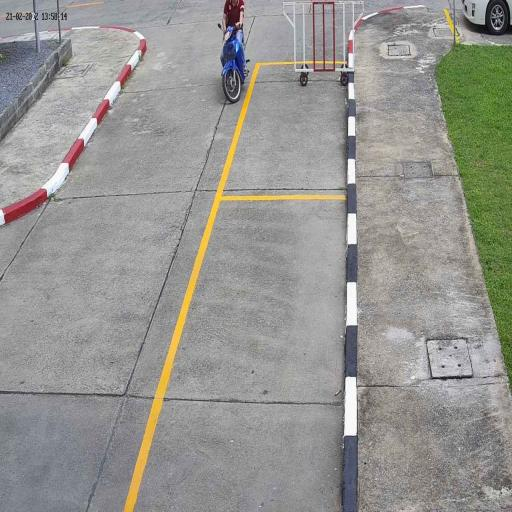motorcycle: (222, 27, 246, 105)
